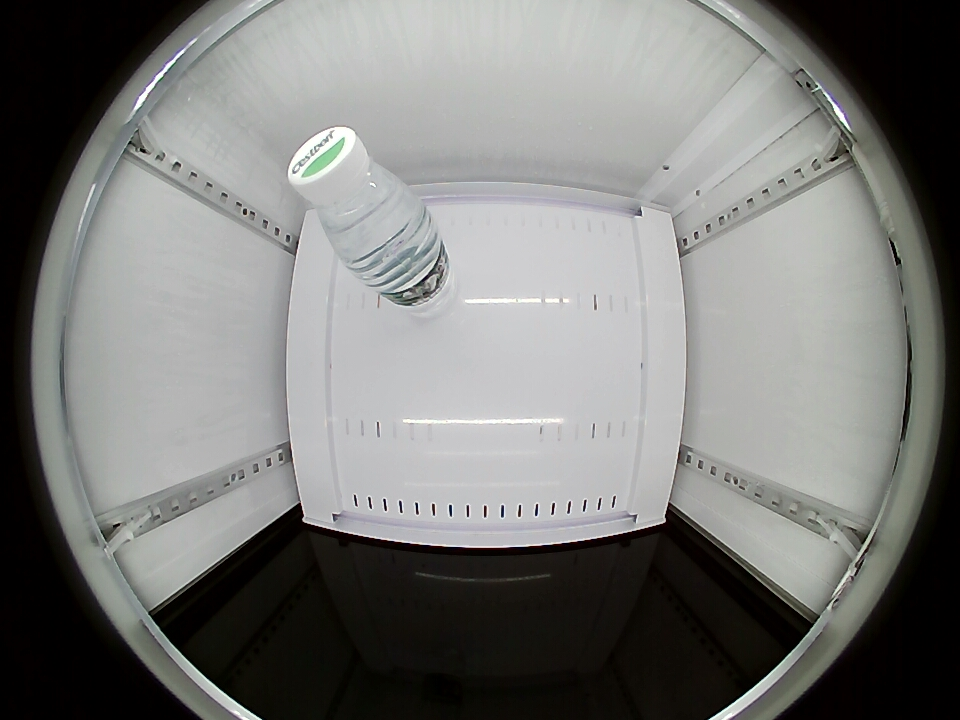yibao: (288, 127, 420, 258)
